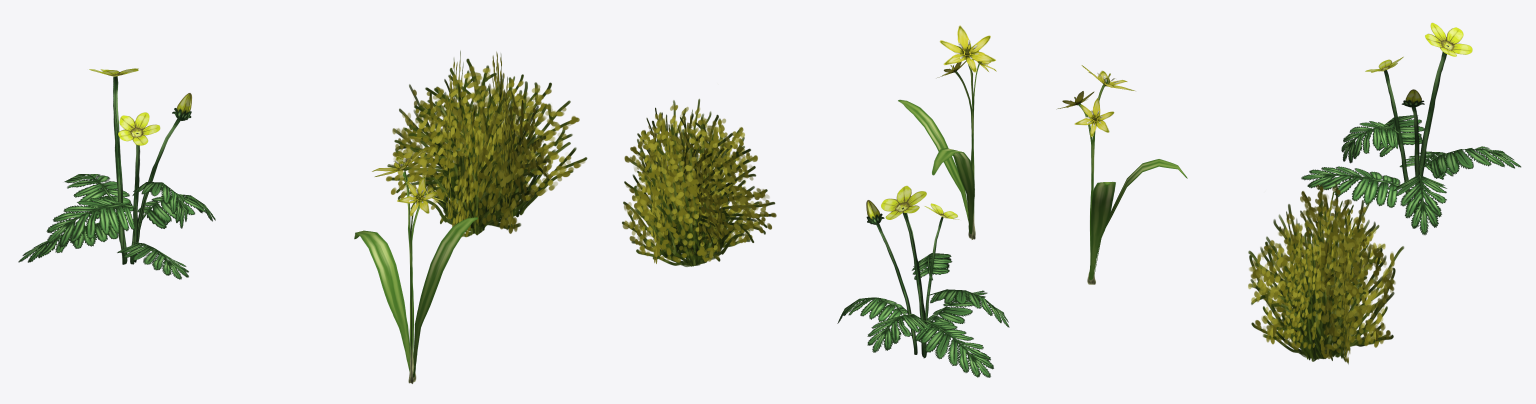
3 views of the same model, side by side, from view 1: azimuth 30°, elevation 25°; view 2: azimuth 150°, elevation 25°; view 3: azimuth 270°, elevation 25° (orthographic). The views are drawn at different scales.
Parts seen in each view (by area): view 1: Object_4, Object_2, Object_3; view 2: Object_4, Object_2, Object_3; view 3: Object_4, Object_2, Object_3.
Boxes of the visible parts, left/top/right/bottom form: Object_4: left=386, top=50, right=587, bottom=237; Object_2: left=18, top=68, right=215, bottom=279; Object_3: left=354, top=147, right=478, bottom=383; Object_4: left=622, top=99, right=776, bottom=266; Object_2: left=837, top=185, right=1009, bottom=377; Object_3: left=898, top=25, right=996, bottom=239; Object_4: left=1248, top=182, right=1404, bottom=364; Object_2: left=1301, top=22, right=1520, bottom=235; Object_3: left=1057, top=65, right=1187, bottom=284.
Size of the model in its own units: 1 by 0.4646 by 0.8834.
Materials: 3 (3 with a texture image).
